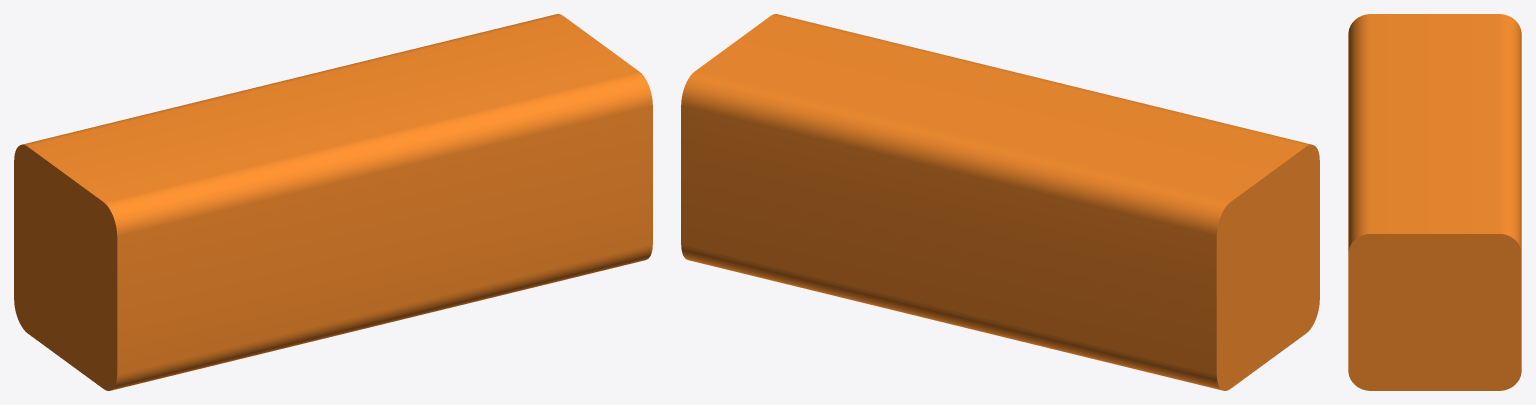
The model's file is Wall Block A Orange.fbx.
3 renders of one model, left to right at view 1: azimuth 30°, elevation 25°; view 2: azimuth 150°, elevation 25°; view 3: azimuth 270°, elevation 25°, orthographic. The views are drawn at different scales.
Visible parts, largest first — view 1: Wall Block A Orange; view 2: Wall Block A Orange; view 3: Wall Block A Orange.
Part boxes in pixels (bbox=[...]): Wall Block A Orange: bbox=[14, 14, 652, 390]; Wall Block A Orange: bbox=[681, 14, 1319, 390]; Wall Block A Orange: bbox=[1348, 14, 1521, 390].
Bounding box in the file's own units: 300 × 100 × 100.
